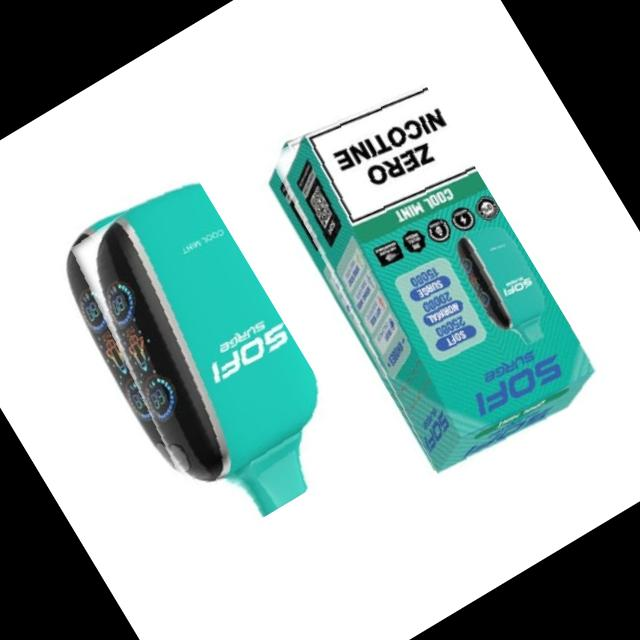Hazard: (249, 65, 605, 483), (37, 165, 363, 548)
